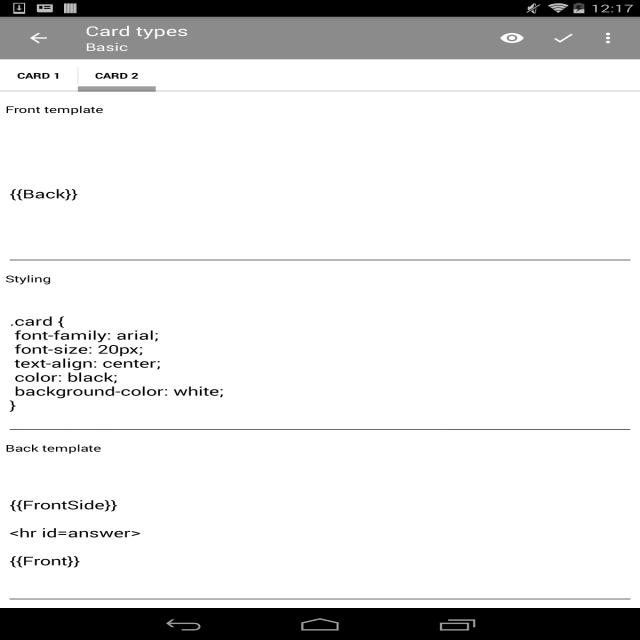EditText: (5, 122, 635, 266), (5, 461, 635, 605), (5, 292, 635, 435)
ImageButton: (9, 17, 68, 59)
ImageView: (589, 22, 631, 54)
TextView: (5, 103, 635, 116), (5, 272, 635, 285), (5, 442, 635, 454), (0, 59, 78, 92), (78, 59, 156, 92), (85, 22, 188, 40), (487, 22, 538, 54), (538, 22, 588, 54), (85, 40, 128, 54)
